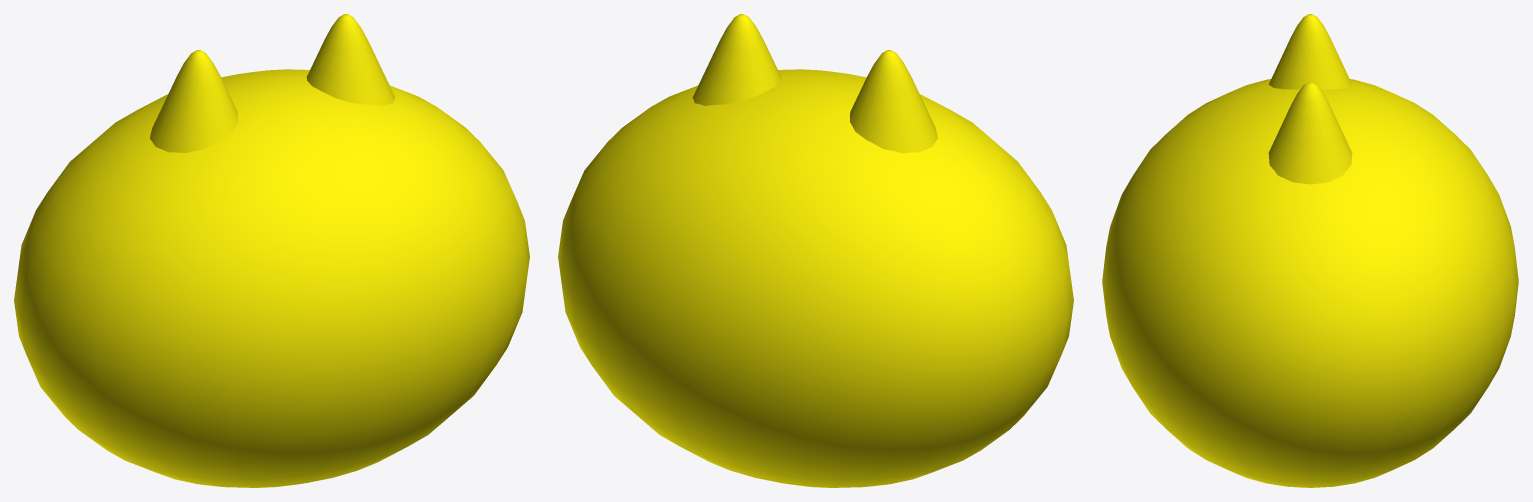
The model's file is Head5.glb.
3 views of the same model, side by side, from view 1: azimuth 30°, elevation 25°; view 2: azimuth 150°, elevation 25°; view 3: azimuth 270°, elevation 25° (orthographic). The views are drawn at different scales.
Visible parts, largest first — view 1: Head_Cat; view 2: Head_Cat; view 3: Head_Cat.
Boxes of the visible parts, x1=… form: Head_Cat: x1=14, y1=14, x2=529, y2=487; Head_Cat: x1=558, y1=14, x2=1073, y2=487; Head_Cat: x1=1102, y1=14, x2=1518, y2=487.
Bounding box in the file's own units: 295 × 260 × 240.
